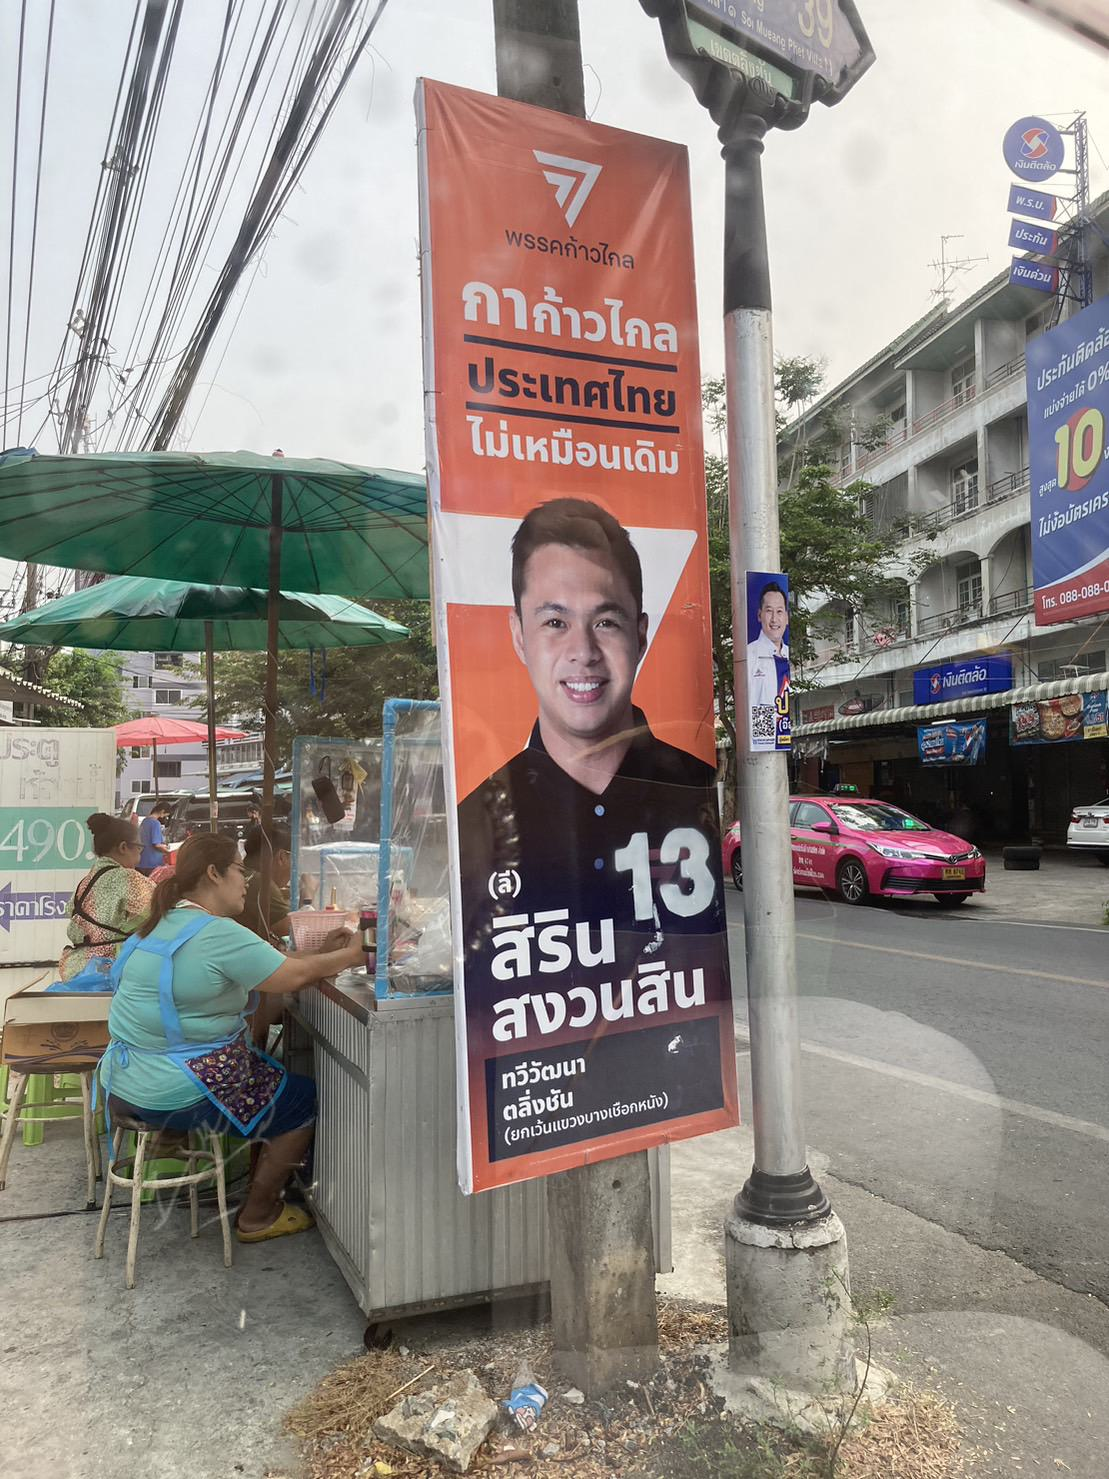Banner: (425, 72, 754, 1215)
